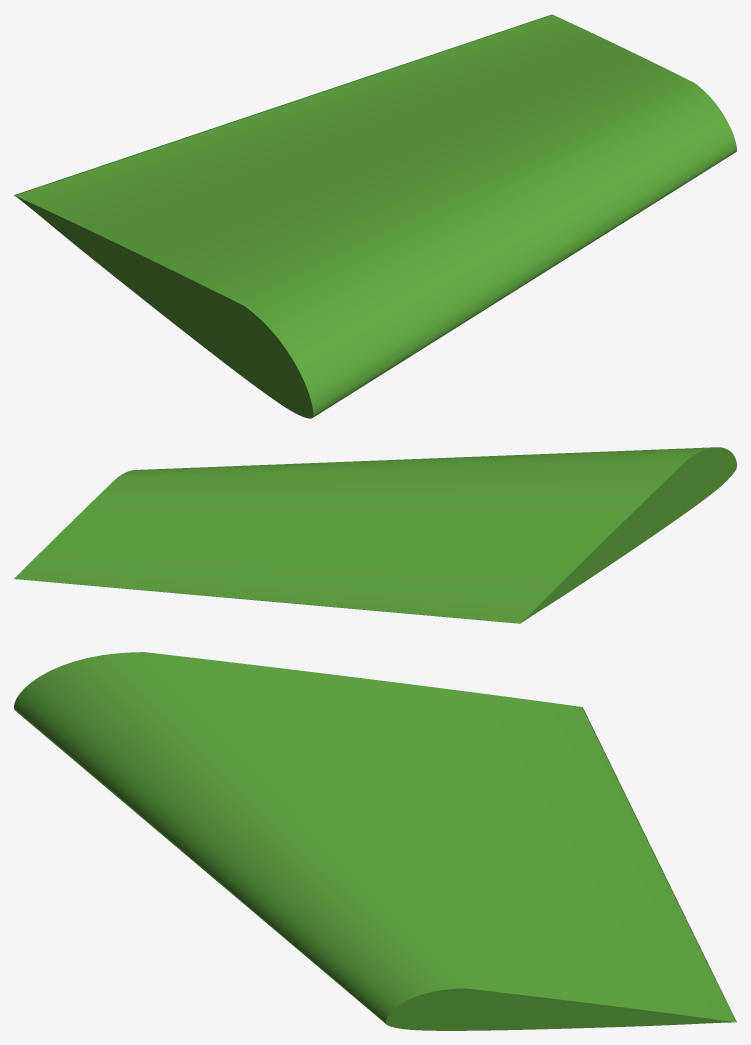
Rendered from wing_tip_left_2.dae.
3 renders of one model, top to bottom at view 1: azimuth 30°, elevation 25°; view 2: azimuth 150°, elevation 25°; view 3: azimuth 270°, elevation 25°, orthographic. The views are drawn at different scales.
Parts seen in each view (by area): view 1: ID2; view 2: ID2; view 3: ID2.
Part boxes in pixels (<box>): ID2: <box>14,14,736,418</box>; ID2: <box>14,447,736,623</box>; ID2: <box>14,652,736,1030</box>.
Bounding box in the file's own units: 1.72 × 1.83 × 0.2563.
